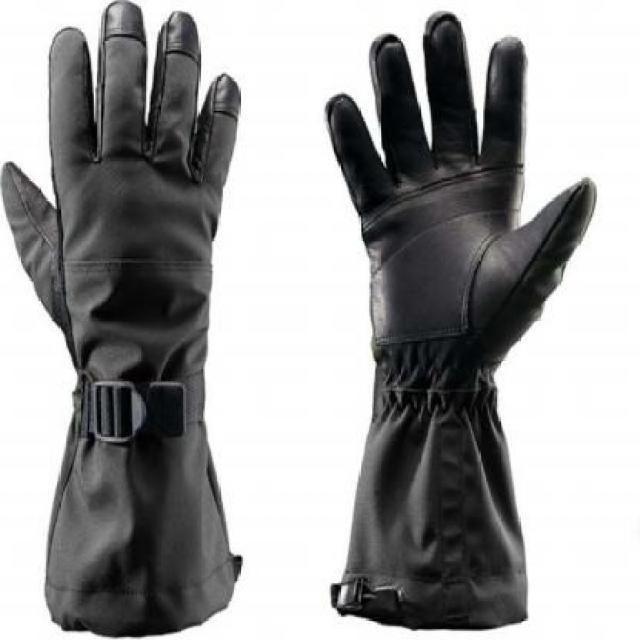Gloves: (321, 7, 599, 640), (3, 0, 245, 640)
